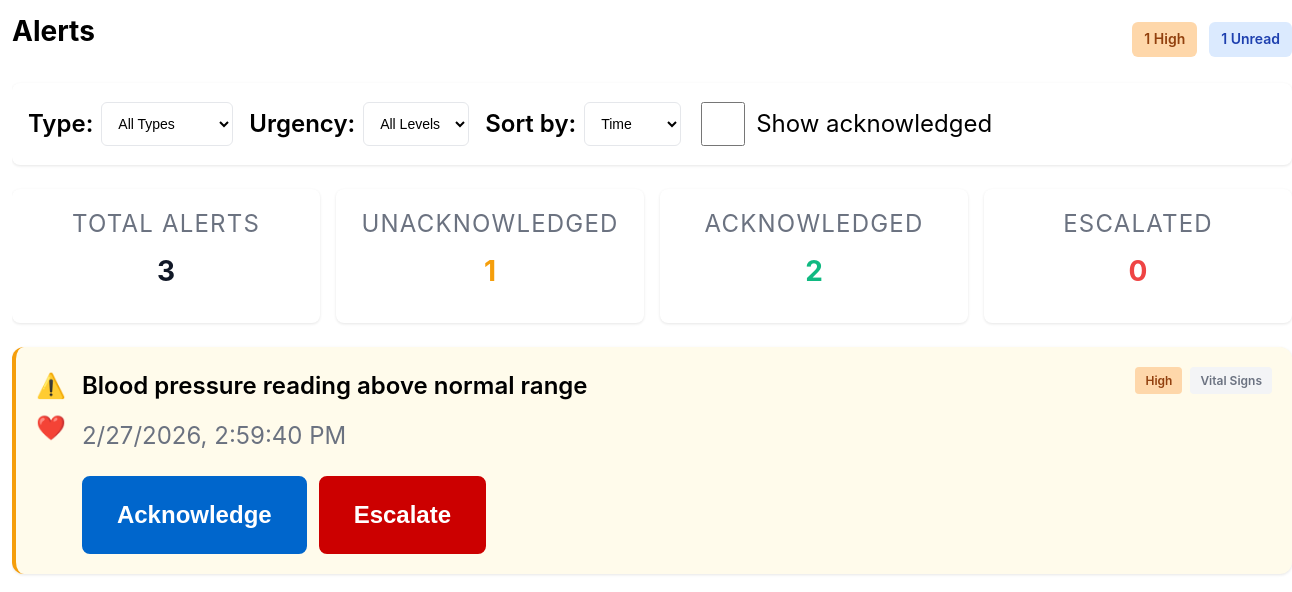
AlertsPanelWidget › Alert Escalation › should escalate an alert when escalate button is clicked
Check: the text "Blood pressure reading above normal range" is shown, box top-left (82, 367), bottom-right (588, 405)
# Find and click escalate button
Click the button "Escalate". click: (402, 514)
box: top-left (319, 476), bottom-right (486, 554)
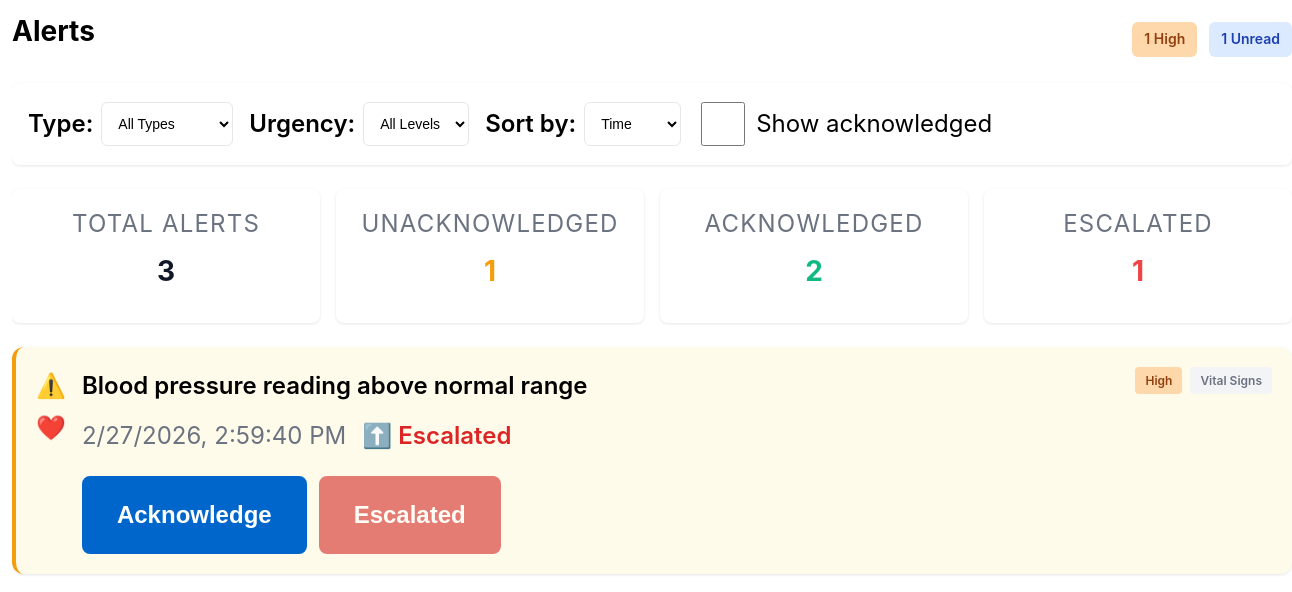
Check: the button "Escalated" is disabled, box top-left (319, 476), bottom-right (501, 554)
